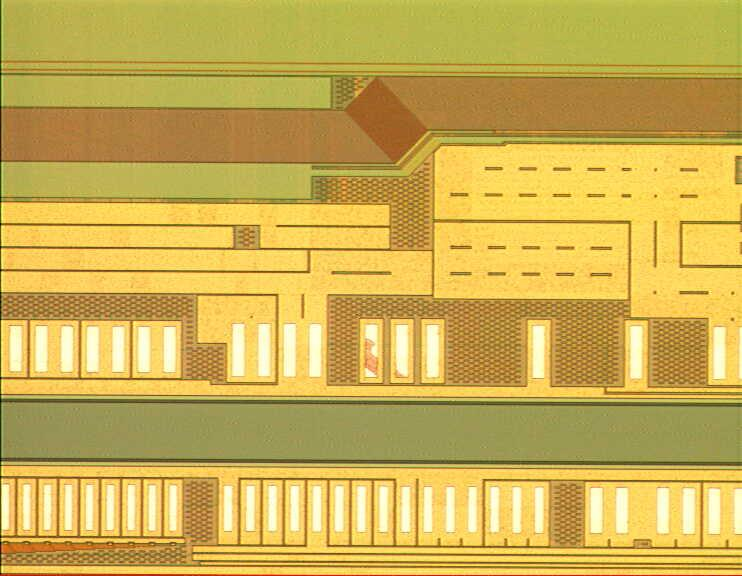BLOCK ETCH: (334, 332, 414, 396)
